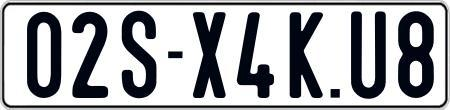0: (25, 11, 63, 102)
2: (71, 10, 111, 98)
4: (234, 9, 272, 96)
8: (397, 11, 434, 104)
K: (288, 12, 323, 102)
S: (122, 10, 159, 103)
U: (348, 8, 388, 101)
X: (190, 12, 226, 102)
